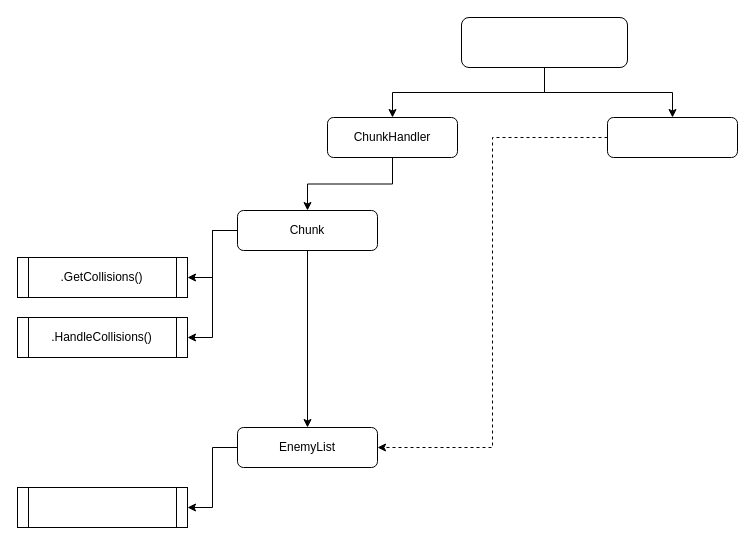
This 755x545 diagram has some shape labels left out. Here are the shapes that lost their labels. From the top down, the centre of each, then its label:
At pixel 544 42: "Scene".
At pixel 672 137: "WorldObjects".
At pixel 102 507: ".UpdateENEMYTYPE()".
